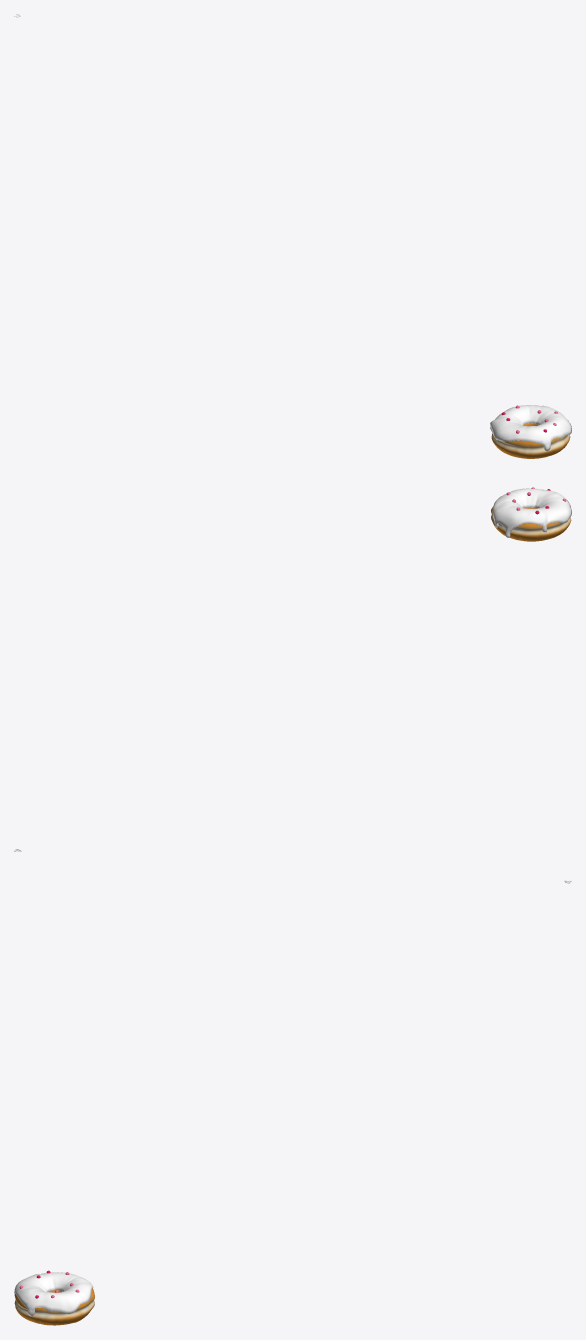
Rendered from donut_2.glb.
3 views of the same model, one above another, from view 1: azimuth 30°, elevation 25°; view 2: azimuth 150°, elevation 25°; view 3: azimuth 330°, elevation 25° (orthographic).
Visible parts, largest first — view 1: Icing, Donut; view 2: Icing, Donut; view 3: Icing, Donut.
Part boxes in pixels (<box>): Icing: <box>490,405,571,451</box>; Donut: <box>491,423,570,458</box>; Icing: <box>492,488,571,537</box>; Donut: <box>491,506,571,541</box>; Icing: <box>14,1272,93,1316</box>; Donut: <box>14,1288,94,1325</box>.
Size of the model in its own units: 0.1001 by 0.0775 by 1.32.
Materials: 7 (1 with a texture image).
